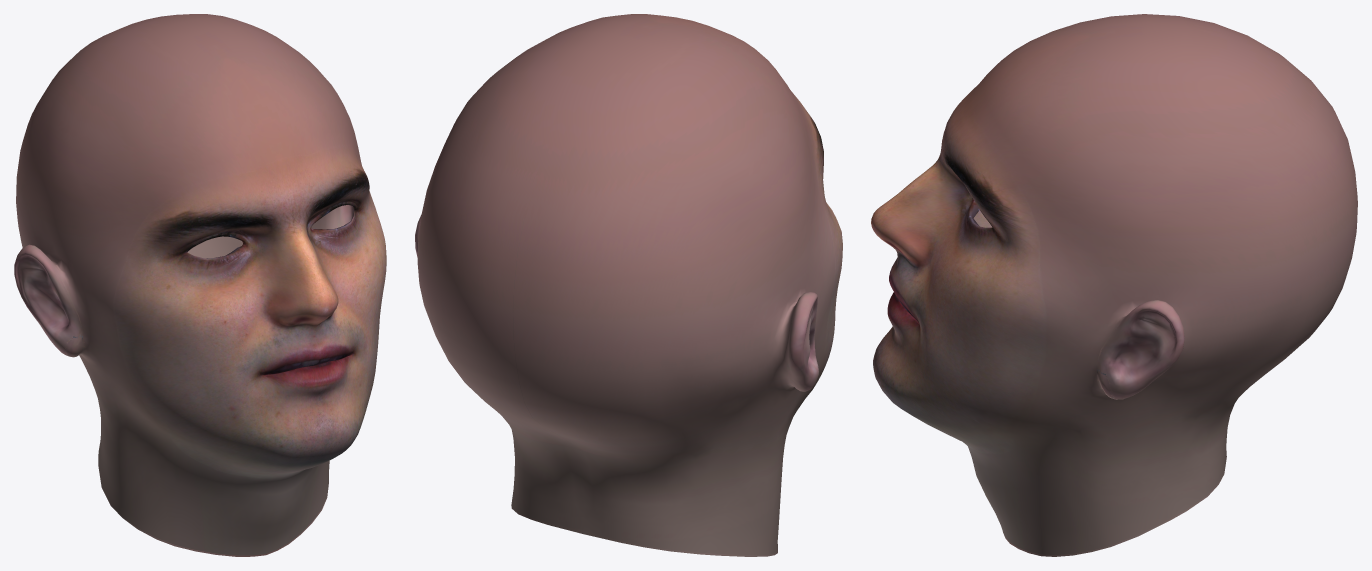
3 views of the same model, side by side, from view 1: azimuth 30°, elevation 25°; view 2: azimuth 150°, elevation 25°; view 3: azimuth 270°, elevation 25° (orthographic). The views are drawn at different scales.
Parts seen in each view (by area): view 1: FaceGen; view 2: FaceGen; view 3: FaceGen.
Part boxes in pixels (x1,y1,x2,y2): FaceGen: [14, 14, 386, 556]; FaceGen: [415, 14, 842, 556]; FaceGen: [871, 14, 1357, 556].
Bounding box in the file's own units: 208 × 278 × 244.
1 material, 1 textured.
